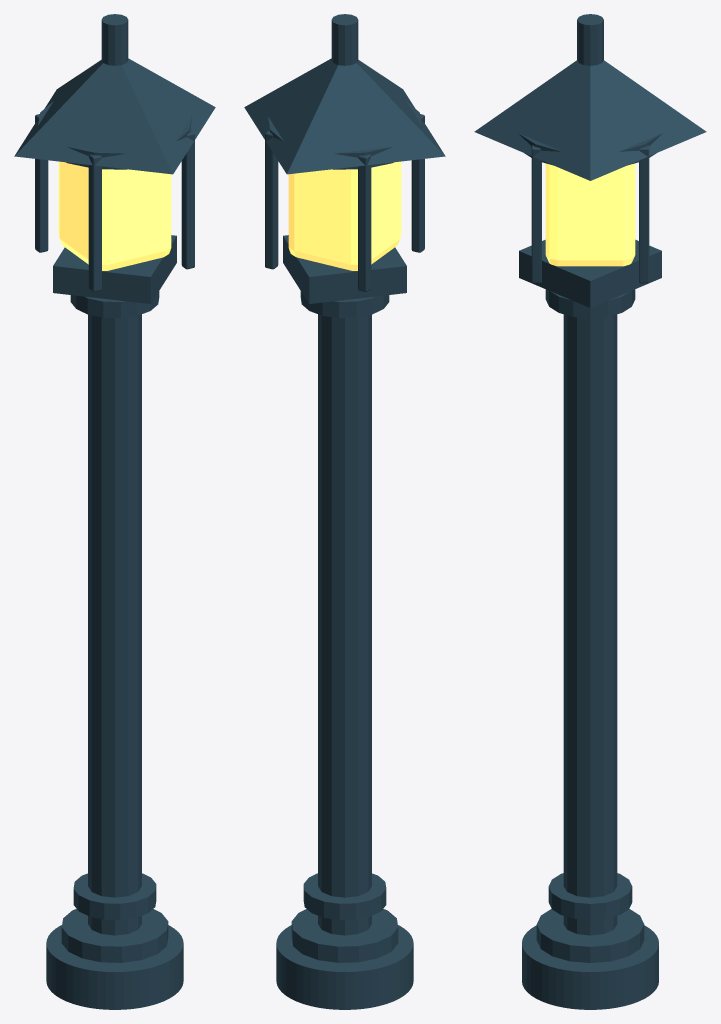
The model's file is lamp.glb.
The picture shows the model from 3 angles, left to right: view 1: azimuth 30°, elevation 25°; view 2: azimuth 150°, elevation 25°; view 3: azimuth 270°, elevation 25°; orthographic projection.
Visible parts, largest first — view 1: lamp_pole, Cone, lamp_glass, lamp_foot, lamp_lantern_base, lamp_decorative_collar, lamp_decorative_collar.001, lamp_frame, lamp_frame.002, lamp_finial, lamp_decorative_collar.002, lamp_frame.001 (+1 smaller); view 2: lamp_pole, Cone, lamp_glass, lamp_foot, lamp_lantern_base, lamp_decorative_collar, lamp_decorative_collar.001, lamp_frame.001, lamp_frame.003, lamp_finial, lamp_decorative_collar.002, lamp_frame (+1 smaller); view 3: lamp_pole, Cone, lamp_glass, lamp_foot, lamp_lantern_base, lamp_decorative_collar, lamp_decorative_collar.001, lamp_frame.002, lamp_frame.003, lamp_decorative_collar.002, lamp_finial.
Boxes of the visible parts, x1,y1,x2,y2 form: lamp_pole: (88,314,141,935); Cone: (14,58,215,174); lamp_glass: (58,161,171,270); lamp_foot: (46,925,183,1009); lamp_lantern_base: (53,235,176,303); lamp_decorative_collar: (61,909,168,962); lamp_decorative_collar.001: (73,873,156,919); lamp_frame: (88,154,101,291); lamp_frame.002: (181,130,194,269); lamp_finial: (101,14,128,65); lamp_decorative_collar.002: (70,291,159,318); lamp_frame.001: (35,114,48,252); lamp_pole: (318,314,371,935); Cone: (244,58,445,174); lamp_glass: (288,161,401,270); lamp_foot: (276,925,413,1009); lamp_lantern_base: (283,235,406,303); lamp_decorative_collar: (291,909,398,962); lamp_decorative_collar.001: (303,873,386,919); lamp_frame.001: (358,154,371,291); lamp_frame.003: (265,130,278,269); lamp_finial: (331,14,358,65); lamp_decorative_collar.002: (300,291,389,318); lamp_frame: (411,114,424,252); lamp_pole: (563,314,617,935); Cone: (474,60,706,180); lamp_glass: (545,163,635,266); lamp_foot: (522,925,658,1009); lamp_lantern_base: (519,239,661,307); lamp_decorative_collar: (536,909,644,962); lamp_decorative_collar.001: (548,873,632,920); lamp_frame.002: (531,145,541,283); lamp_frame.003: (639,145,649,283); lamp_decorative_collar.002: (545,289,635,318); lamp_finial: (577,14,603,65).
Bounding box in the file's own units: 0.78 × 3.56 × 0.78.
